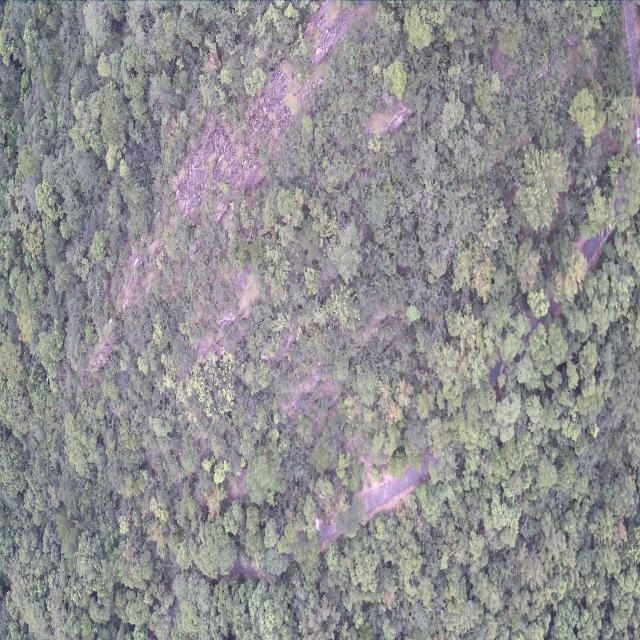drone: (311, 516, 323, 534)
